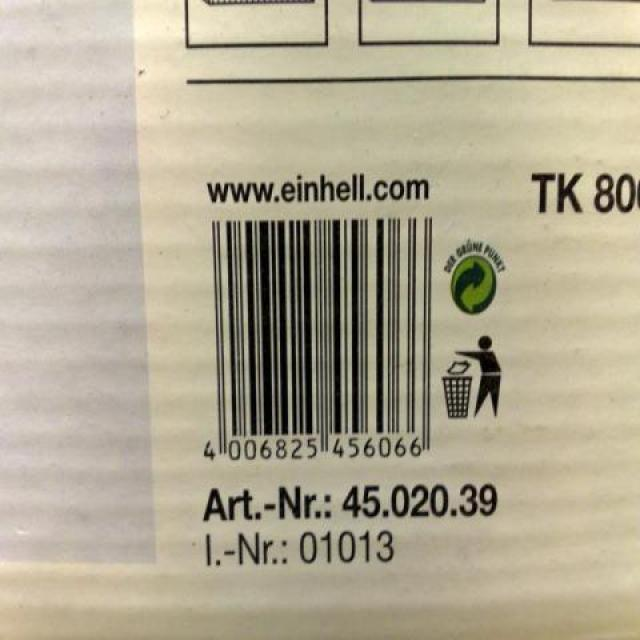Barcode: (189, 211, 442, 469)
